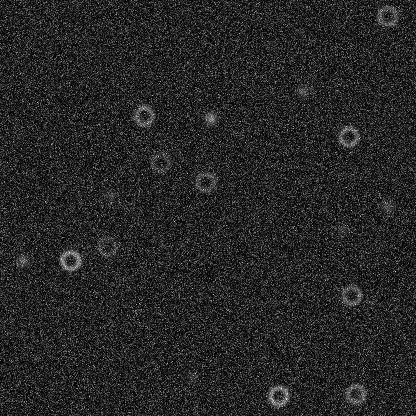Ring: (193, 169, 217, 193), (339, 283, 363, 307), (336, 124, 360, 148), (343, 381, 367, 405), (94, 234, 118, 258), (148, 149, 172, 173), (58, 248, 82, 272), (131, 103, 155, 127), (266, 383, 290, 407), (375, 3, 399, 27)
Spot: (14, 252, 30, 268), (101, 186, 117, 202), (294, 83, 310, 99), (334, 221, 350, 237), (362, 293, 378, 309), (379, 198, 395, 214), (184, 369, 200, 385), (202, 110, 218, 126)
